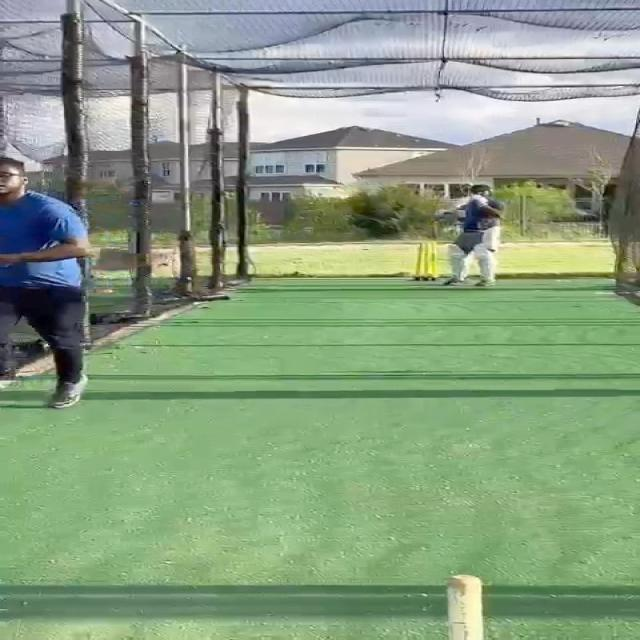batsman: (432, 183, 510, 288)
